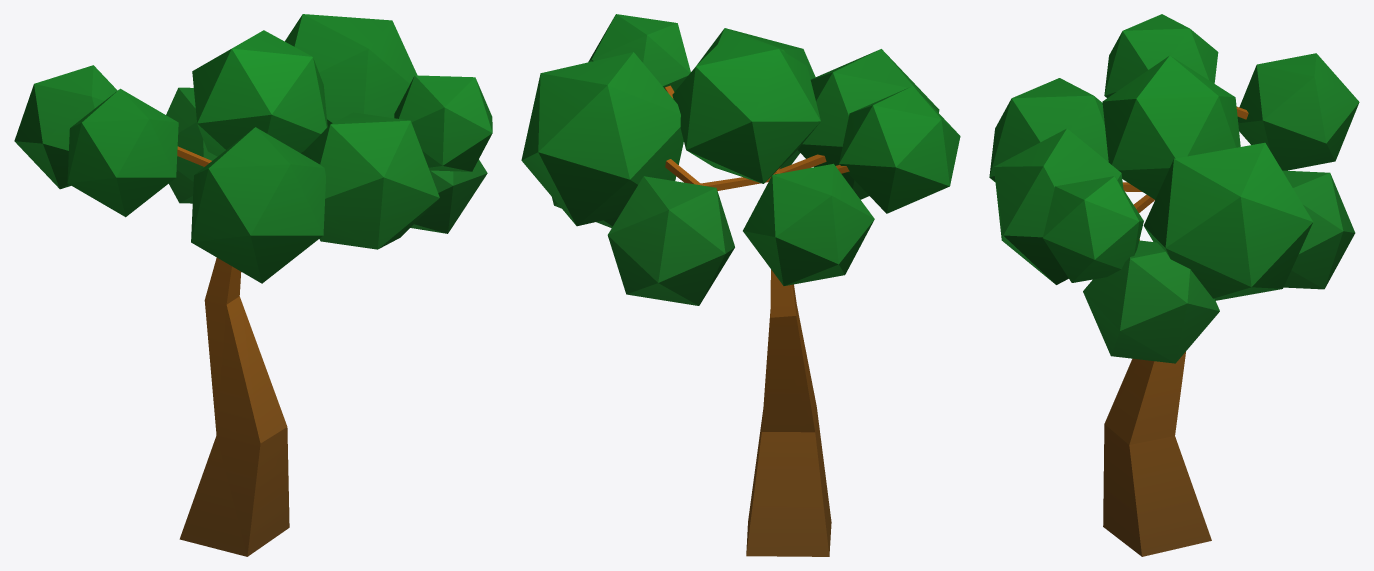
The model's file is Tree_5.fbx.
3 views of the same model, side by side, from view 1: azimuth 30°, elevation 25°; view 2: azimuth 150°, elevation 25°; view 3: azimuth 270°, elevation 25° (orthographic). The views are drawn at different scales.
Visible parts, largest first — view 1: Tree_5; view 2: Tree_5; view 3: Tree_5.
Boxes of the visible parts, left/top/right/bottom form: Tree_5: left=14, top=14, right=492, bottom=556; Tree_5: left=521, top=14, right=960, bottom=556; Tree_5: left=989, top=14, right=1359, bottom=556.
Size of the model in its own units: 658 by 761 by 532.
